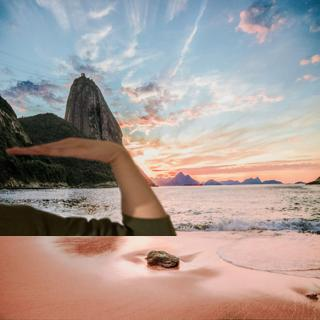WAIT: (1, 128, 124, 167)
